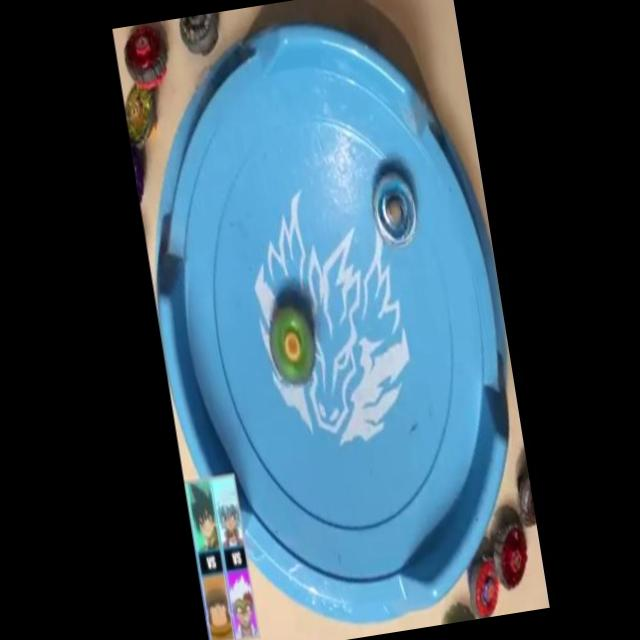Beyblade: (262, 305, 322, 389), (369, 170, 422, 251), (119, 21, 172, 92), (488, 515, 534, 592), (122, 81, 162, 151), (463, 552, 504, 620)
